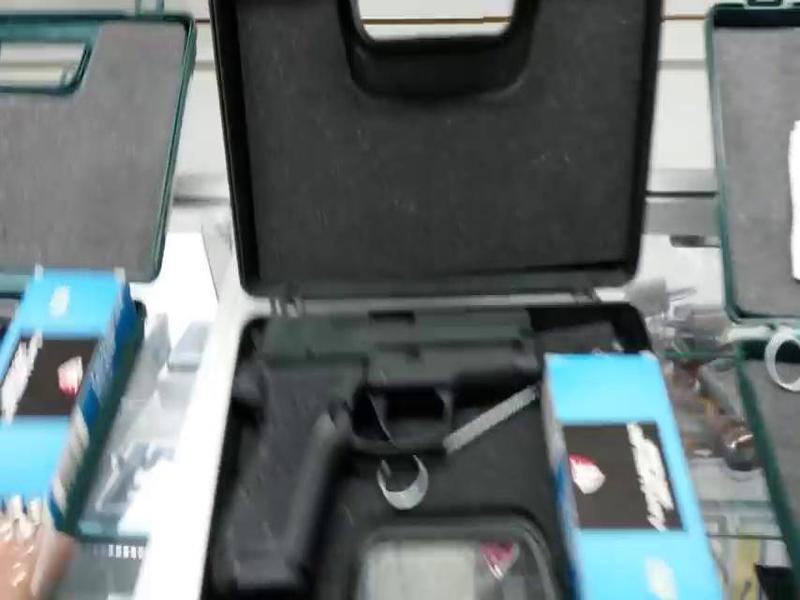Pistola: (198, 296, 552, 598)
